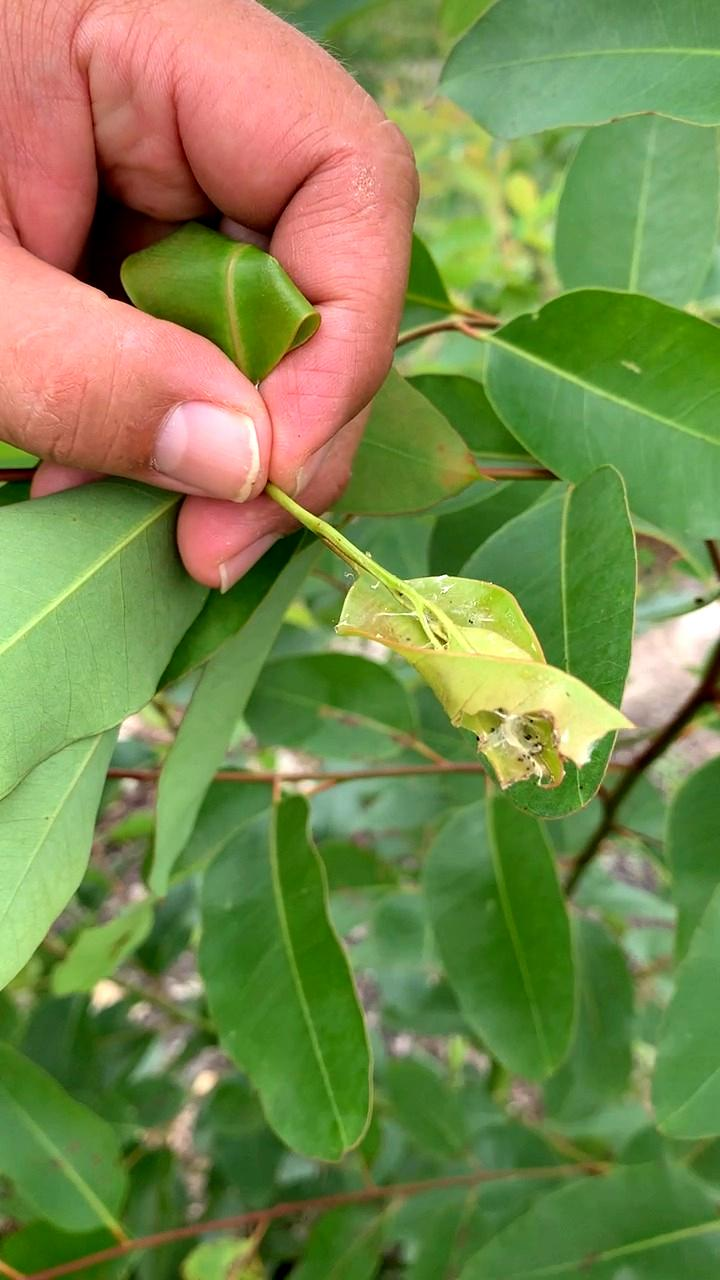Leaf Roller - Leaf: (346, 568, 629, 789)
